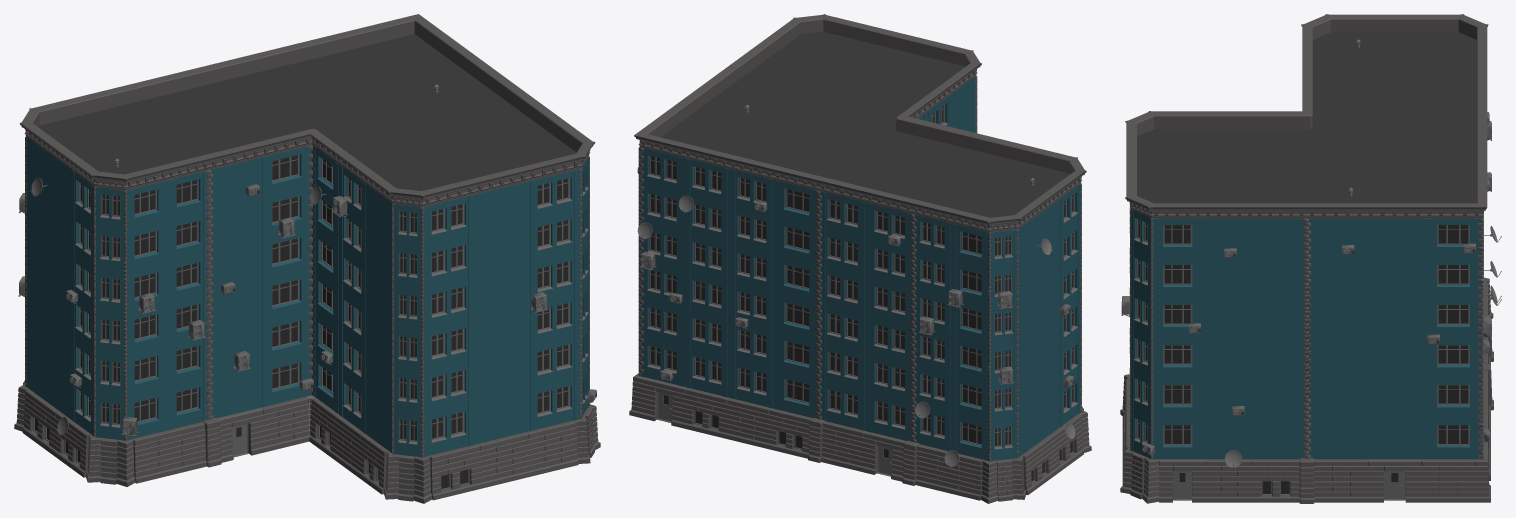
The model's file is Building1.fbx.
3 views of the same model, side by side, from view 1: azimuth 30°, elevation 25°; view 2: azimuth 150°, elevation 25°; view 3: azimuth 270°, elevation 25° (orthographic). The views are drawn at different scales.
Parts seen in each view (by area): view 1: middle_floor_wall_01.030; view 2: middle_floor_wall_01.030; view 3: middle_floor_wall_01.030.
Part boxes in pixels (box(x1,y1,x2,y2)): middle_floor_wall_01.030: box(14, 14, 600, 503); middle_floor_wall_01.030: box(629, 14, 1091, 503); middle_floor_wall_01.030: box(1120, 14, 1501, 503).
Bounding box in the file's own units: 3289 × 2201 × 2588.
